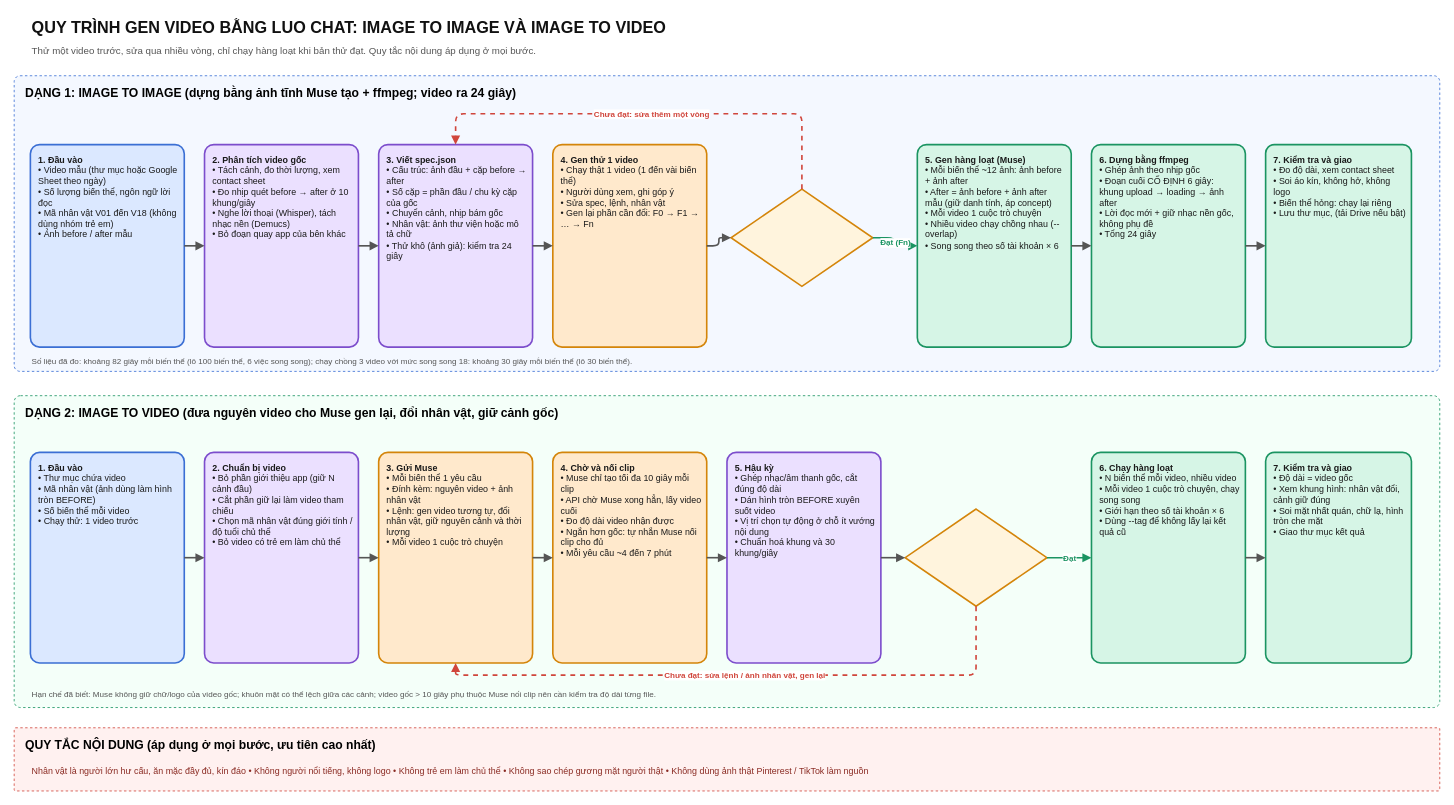
This 1454x805 diagram has some shape labels left out. The centre of each missing label's shape, as x and y in pixels:
Bản thử đạt?: the point at 975,557
Đủ chất lượng để chạy hàng loạt?: the point at 801,237
